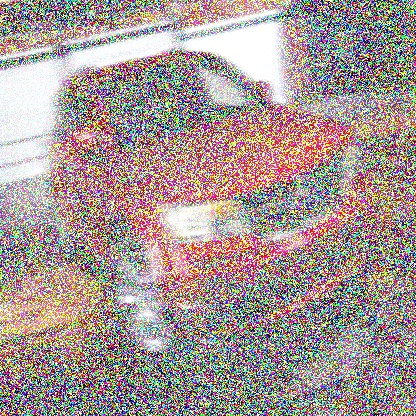Vehicle: (47, 46, 378, 358)
